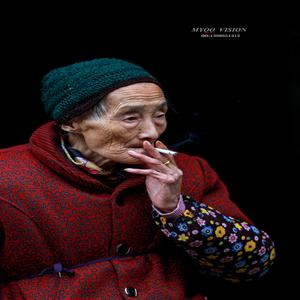cigarette: (148, 143, 180, 159)
